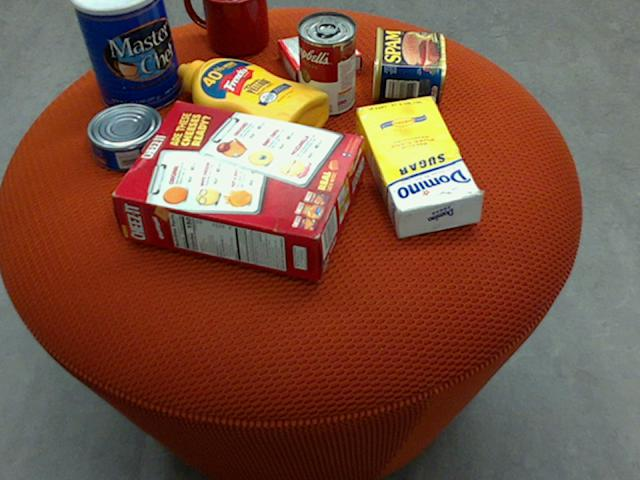cracker_box: (110, 98, 363, 279)
gelatin_box: (277, 25, 362, 86)
large_marker: (223, 0, 256, 48)
master_chef_can: (70, 0, 182, 113)
mug: (185, 0, 268, 56)
mustard_bottle: (177, 58, 328, 154)
potted_meat_can: (371, 27, 445, 102)
sugar_box: (353, 96, 484, 236)
tomato_soup_can: (297, 10, 356, 115)
tuna_fish_can: (85, 103, 166, 171)
